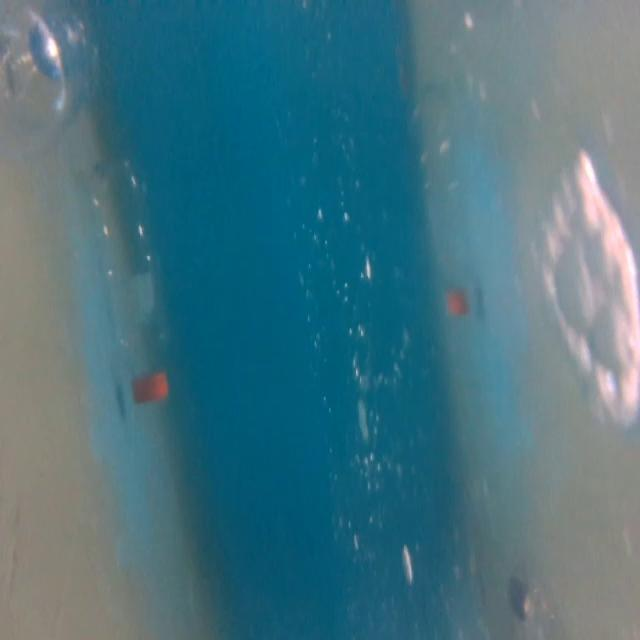plastic bottle: (74, 146, 191, 416)
